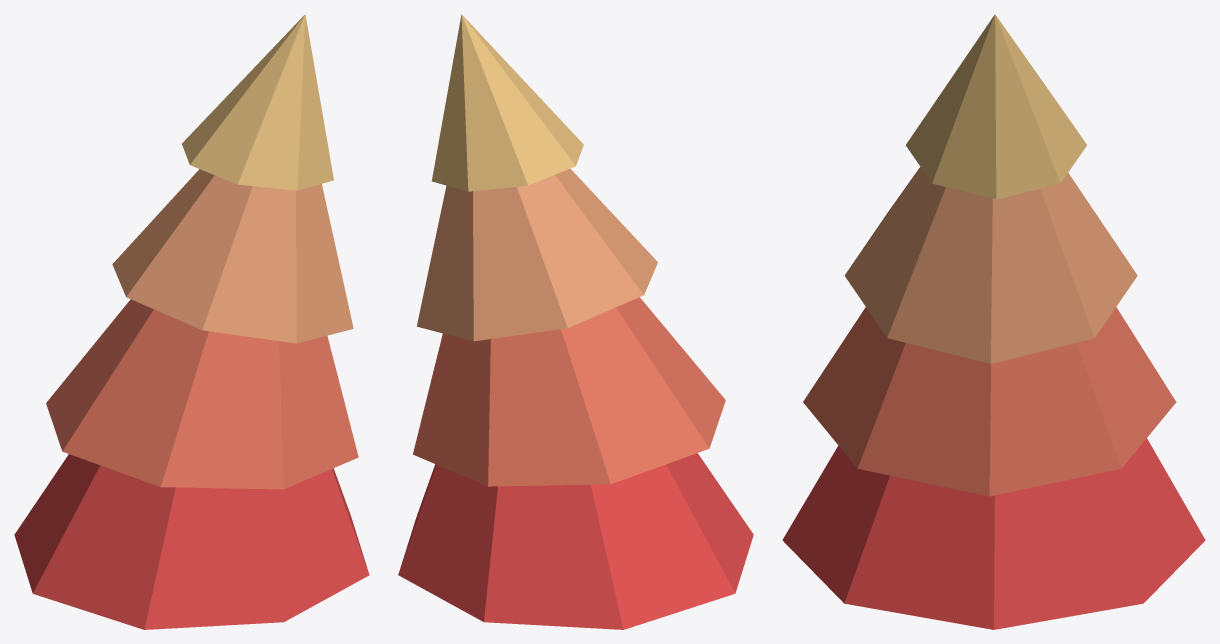
Rendered from 01_02Tree_Red.fbx.
The picture shows the model from 3 angles, left to right: view 1: azimuth 30°, elevation 25°; view 2: azimuth 150°, elevation 25°; view 3: azimuth 270°, elevation 25°; orthographic projection. The views are drawn at different scales.
Visible parts, largest first — view 1: Cone.001; view 2: Cone.001; view 3: Cone.001.
Part boxes in pixels (box(x1,y1,x2,y2)): Cone.001: box(14, 14, 369, 629); Cone.001: box(398, 14, 753, 629); Cone.001: box(782, 14, 1205, 629).
Bounding box in the file's own units: 125 × 192 × 125.
